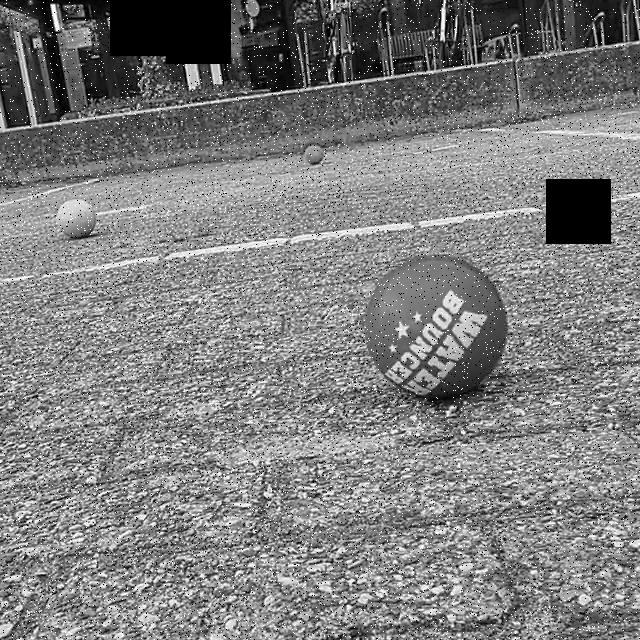ball: (58, 197, 98, 244), (300, 142, 325, 165)
